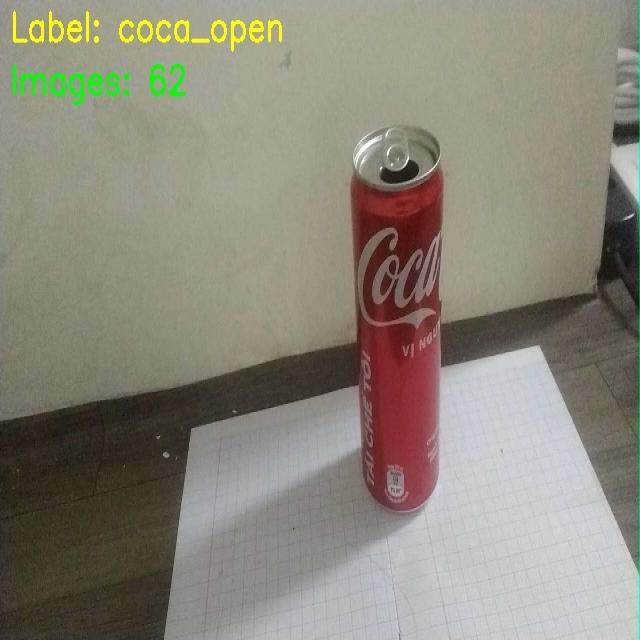Coca_open: (330, 101, 461, 516)
